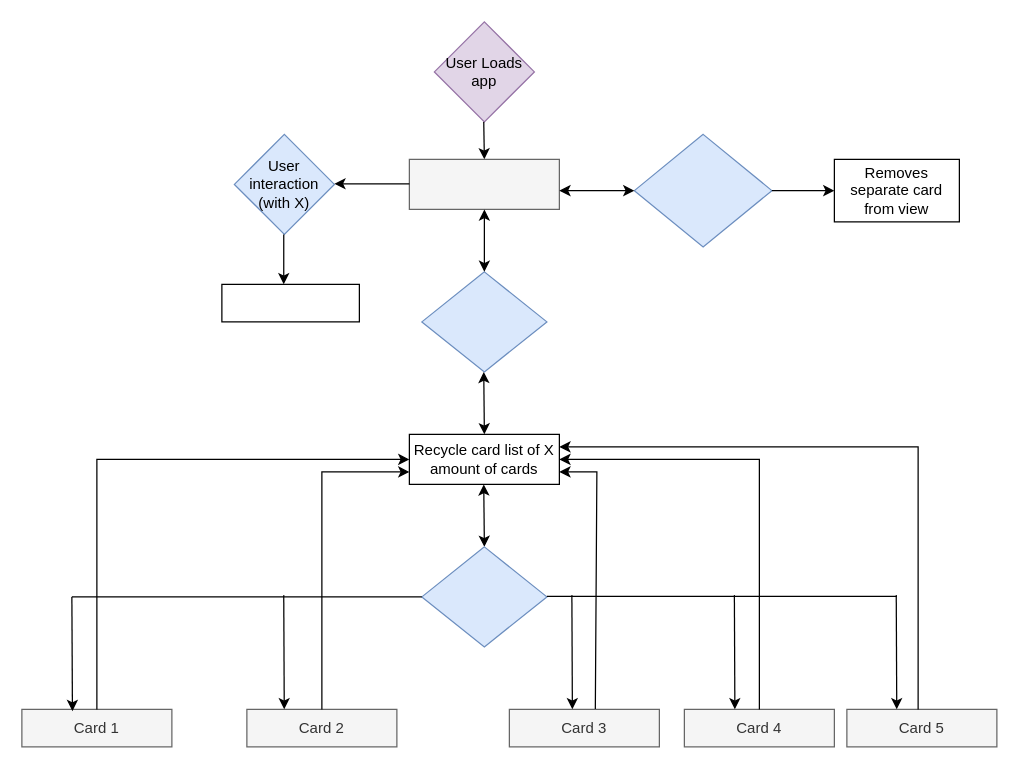
This 1019x769 diagram has some shape labels left out. Each missing label, with the centre of its shape:
First fragment page with recycle usage: the point at 483,183
Program closes: the point at 290,302
User holds single card: the point at 702,190
User scrolls: the point at 484,321
User selects card: the point at 484,596
